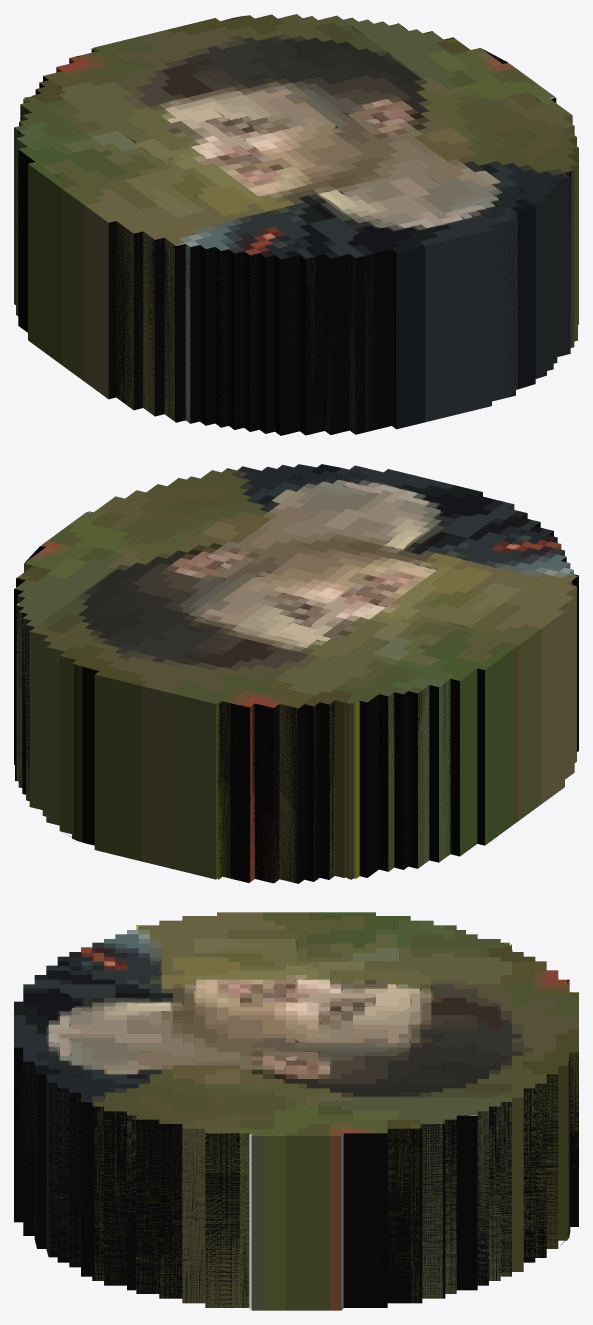
The model's file is tete.glb.
The picture shows the model from 3 angles, top to bottom: view 1: azimuth 30°, elevation 25°; view 2: azimuth 150°, elevation 25°; view 3: azimuth 270°, elevation 25°; orthographic projection.
Parts seen in each view (by area): view 1: Curve.248, Curve.394, Curve.188, Curve.310, Curve.391, Curve.096, Curve.066, Curve.382, Curve.259, Curve.003, Curve.022, Curve.018 (+57 smaller); view 2: Curve, Curve.004, Curve.188, Curve.002, Curve.066, Curve.003, Curve.012, Curve.096, Curve.008, Curve.022, Curve.005, Curve.024 (+59 smaller); view 3: Curve.233, Curve.005, Curve.022, Curve.212, Curve.147, Curve.259, Curve.146, Curve.012, Curve.310, Curve.004, Curve.188, Curve.003 (+62 smaller).
Boxes of the visible parts, box(x1,y1,x2,y2) form: Curve.248: box(108, 221, 396, 435); Curve.394: box(419, 208, 517, 422); Curve.188: box(85, 188, 266, 421); Curve.310: box(482, 163, 570, 378); Curve.391: box(391, 224, 451, 429); Curve.096: box(42, 154, 155, 381); Curve.066: box(18, 146, 85, 361); Curve.382: box(511, 199, 535, 389); Curve.259: box(492, 127, 578, 341); Curve.003: box(114, 27, 245, 98); Curve.022: box(343, 17, 457, 89); Curve.018: box(59, 81, 153, 143); Curve: box(218, 668, 484, 883); Curve.004: box(59, 645, 147, 861); Curve.188: box(452, 560, 577, 803); Curve.002: box(170, 672, 273, 879); Curve.066: box(437, 646, 513, 856); Curve.003: box(105, 655, 296, 868); Curve.012: box(29, 620, 121, 825); Curve.096: box(410, 622, 541, 820); Curve.008: box(220, 680, 314, 882); Curve.022: box(15, 552, 124, 801); Curve.005: box(14, 546, 98, 845); Curve.024: box(335, 665, 423, 878); Curve.233: box(14, 1047, 249, 1307); Curve.005: box(343, 1052, 578, 1307); Curve.022: box(318, 1097, 511, 1298); Curve.212: box(182, 1115, 274, 1307); Curve.147: box(286, 1124, 329, 1310); Curve.259: box(94, 1083, 205, 1298); Curve.146: box(240, 1105, 329, 1310); Curve.012: box(477, 1052, 546, 1271); Curve.310: box(37, 1051, 138, 1267); Curve.004: box(521, 1029, 578, 1248); Curve.188: box(138, 912, 285, 974); Curve.003: box(454, 984, 578, 1055).
Size of the model in its own units: 0.351 by 0.1277 by 0.3746.
